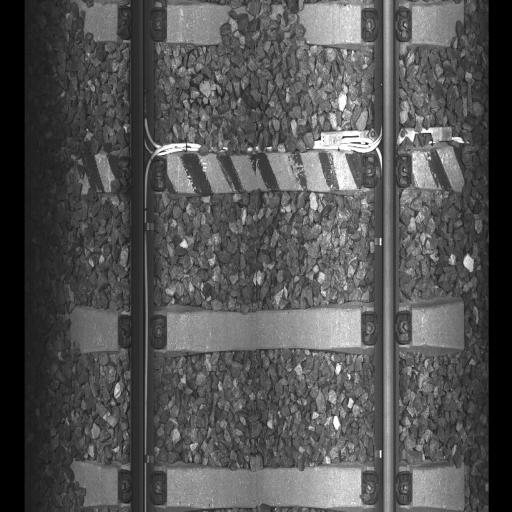sleeper: (66, 456, 465, 509), (70, 144, 465, 196), (68, 302, 462, 351), (71, 8, 466, 48)
